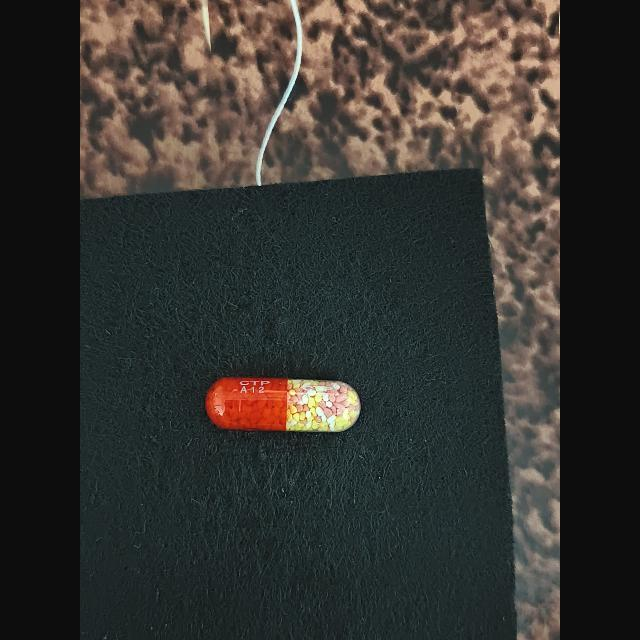Intact Capsule: (205, 377, 361, 432)
